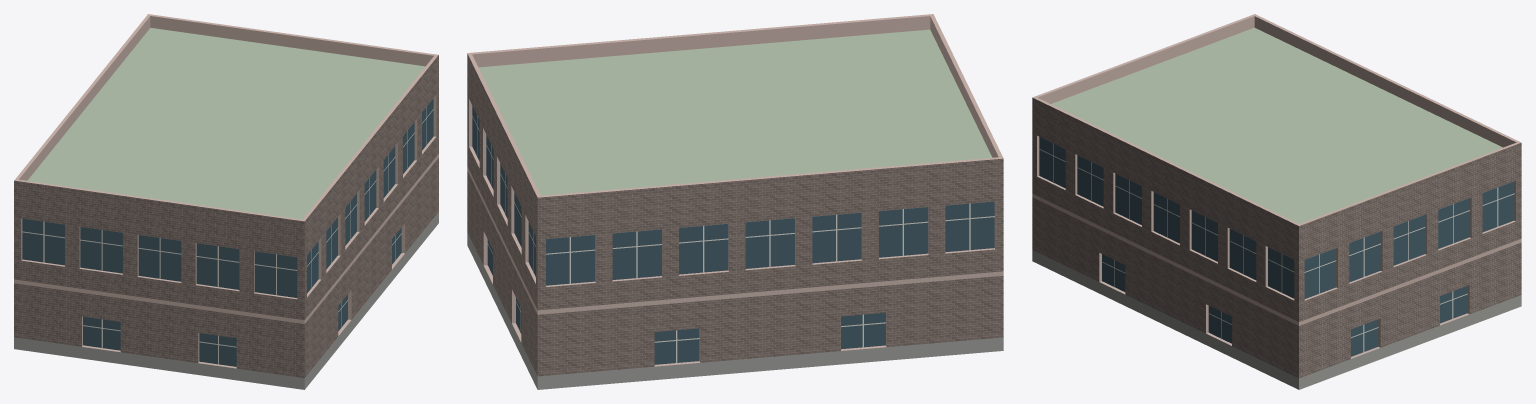
3 views of the same model, side by side, from view 1: azimuth 30°, elevation 25°; view 2: azimuth 150°, elevation 25°; view 3: azimuth 270°, elevation 25° (orthographic). The views are drawn at different scales.
Visible parts, largest first — view 1: hall3__roof, hall3__wall-plaster, hall3__brick, hall3__glass, hall3__trim-concrete, hall3__base-stone, hall3__frame; view 2: hall3__roof, hall3__wall-plaster, hall3__brick, hall3__glass, hall3__trim-concrete, hall3__base-stone, hall3__frame; view 3: hall3__roof, hall3__wall-plaster, hall3__brick, hall3__glass, hall3__trim-concrete, hall3__base-stone, hall3__frame.
Boxes of the visible parts, x1,y1,x2,y2 form: hall3__roof: [27, 28, 425, 219]; hall3__wall-plaster: [14, 55, 438, 319]; hall3__brick: [14, 158, 438, 377]; hall3__glass: [22, 98, 433, 366]; hall3__trim-concrete: [14, 14, 438, 368]; hall3__base-stone: [14, 212, 438, 389]; hall3__frame: [22, 107, 433, 364]; hall3__roof: [478, 29, 992, 195]; hall3__wall-plaster: [467, 54, 1003, 310]; hall3__brick: [467, 171, 1003, 376]; hall3__glass: [472, 106, 994, 364]; hall3__trim-concrete: [467, 14, 1003, 366]; hall3__base-stone: [467, 232, 1003, 389]; hall3__frame: [471, 114, 994, 363]; hall3__roof: [1051, 27, 1502, 223]; hall3__wall-plaster: [1032, 97, 1521, 321]; hall3__brick: [1032, 197, 1521, 378]; hall3__glass: [1039, 137, 1514, 356]; hall3__trim-concrete: [1032, 14, 1521, 358]; hall3__base-stone: [1032, 250, 1521, 389]; hall3__frame: [1039, 143, 1514, 352].
Bounding box in the file's own units: 35.58 × 12.8 × 34.66.
7 materials, 2 textured.
